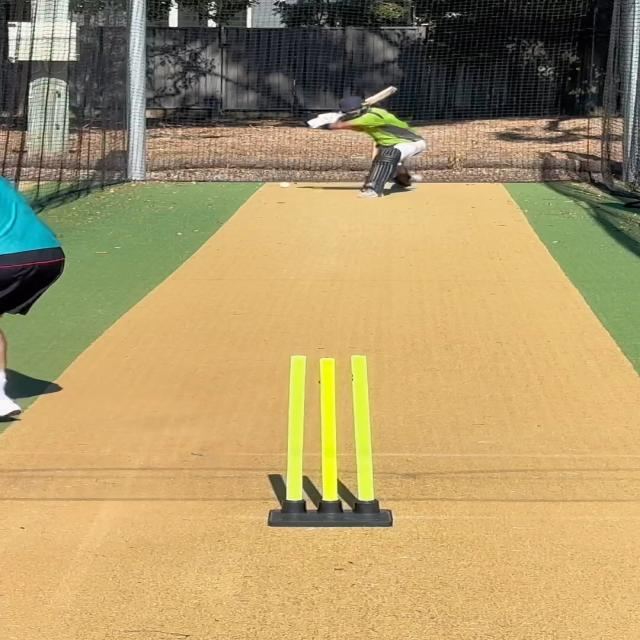ball: (278, 182, 292, 190)
stump: (264, 353, 396, 529)
